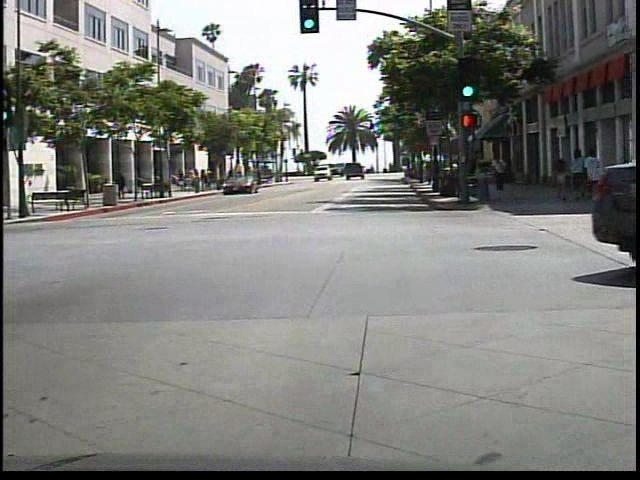person: (486, 151, 510, 195), (113, 163, 131, 204)
